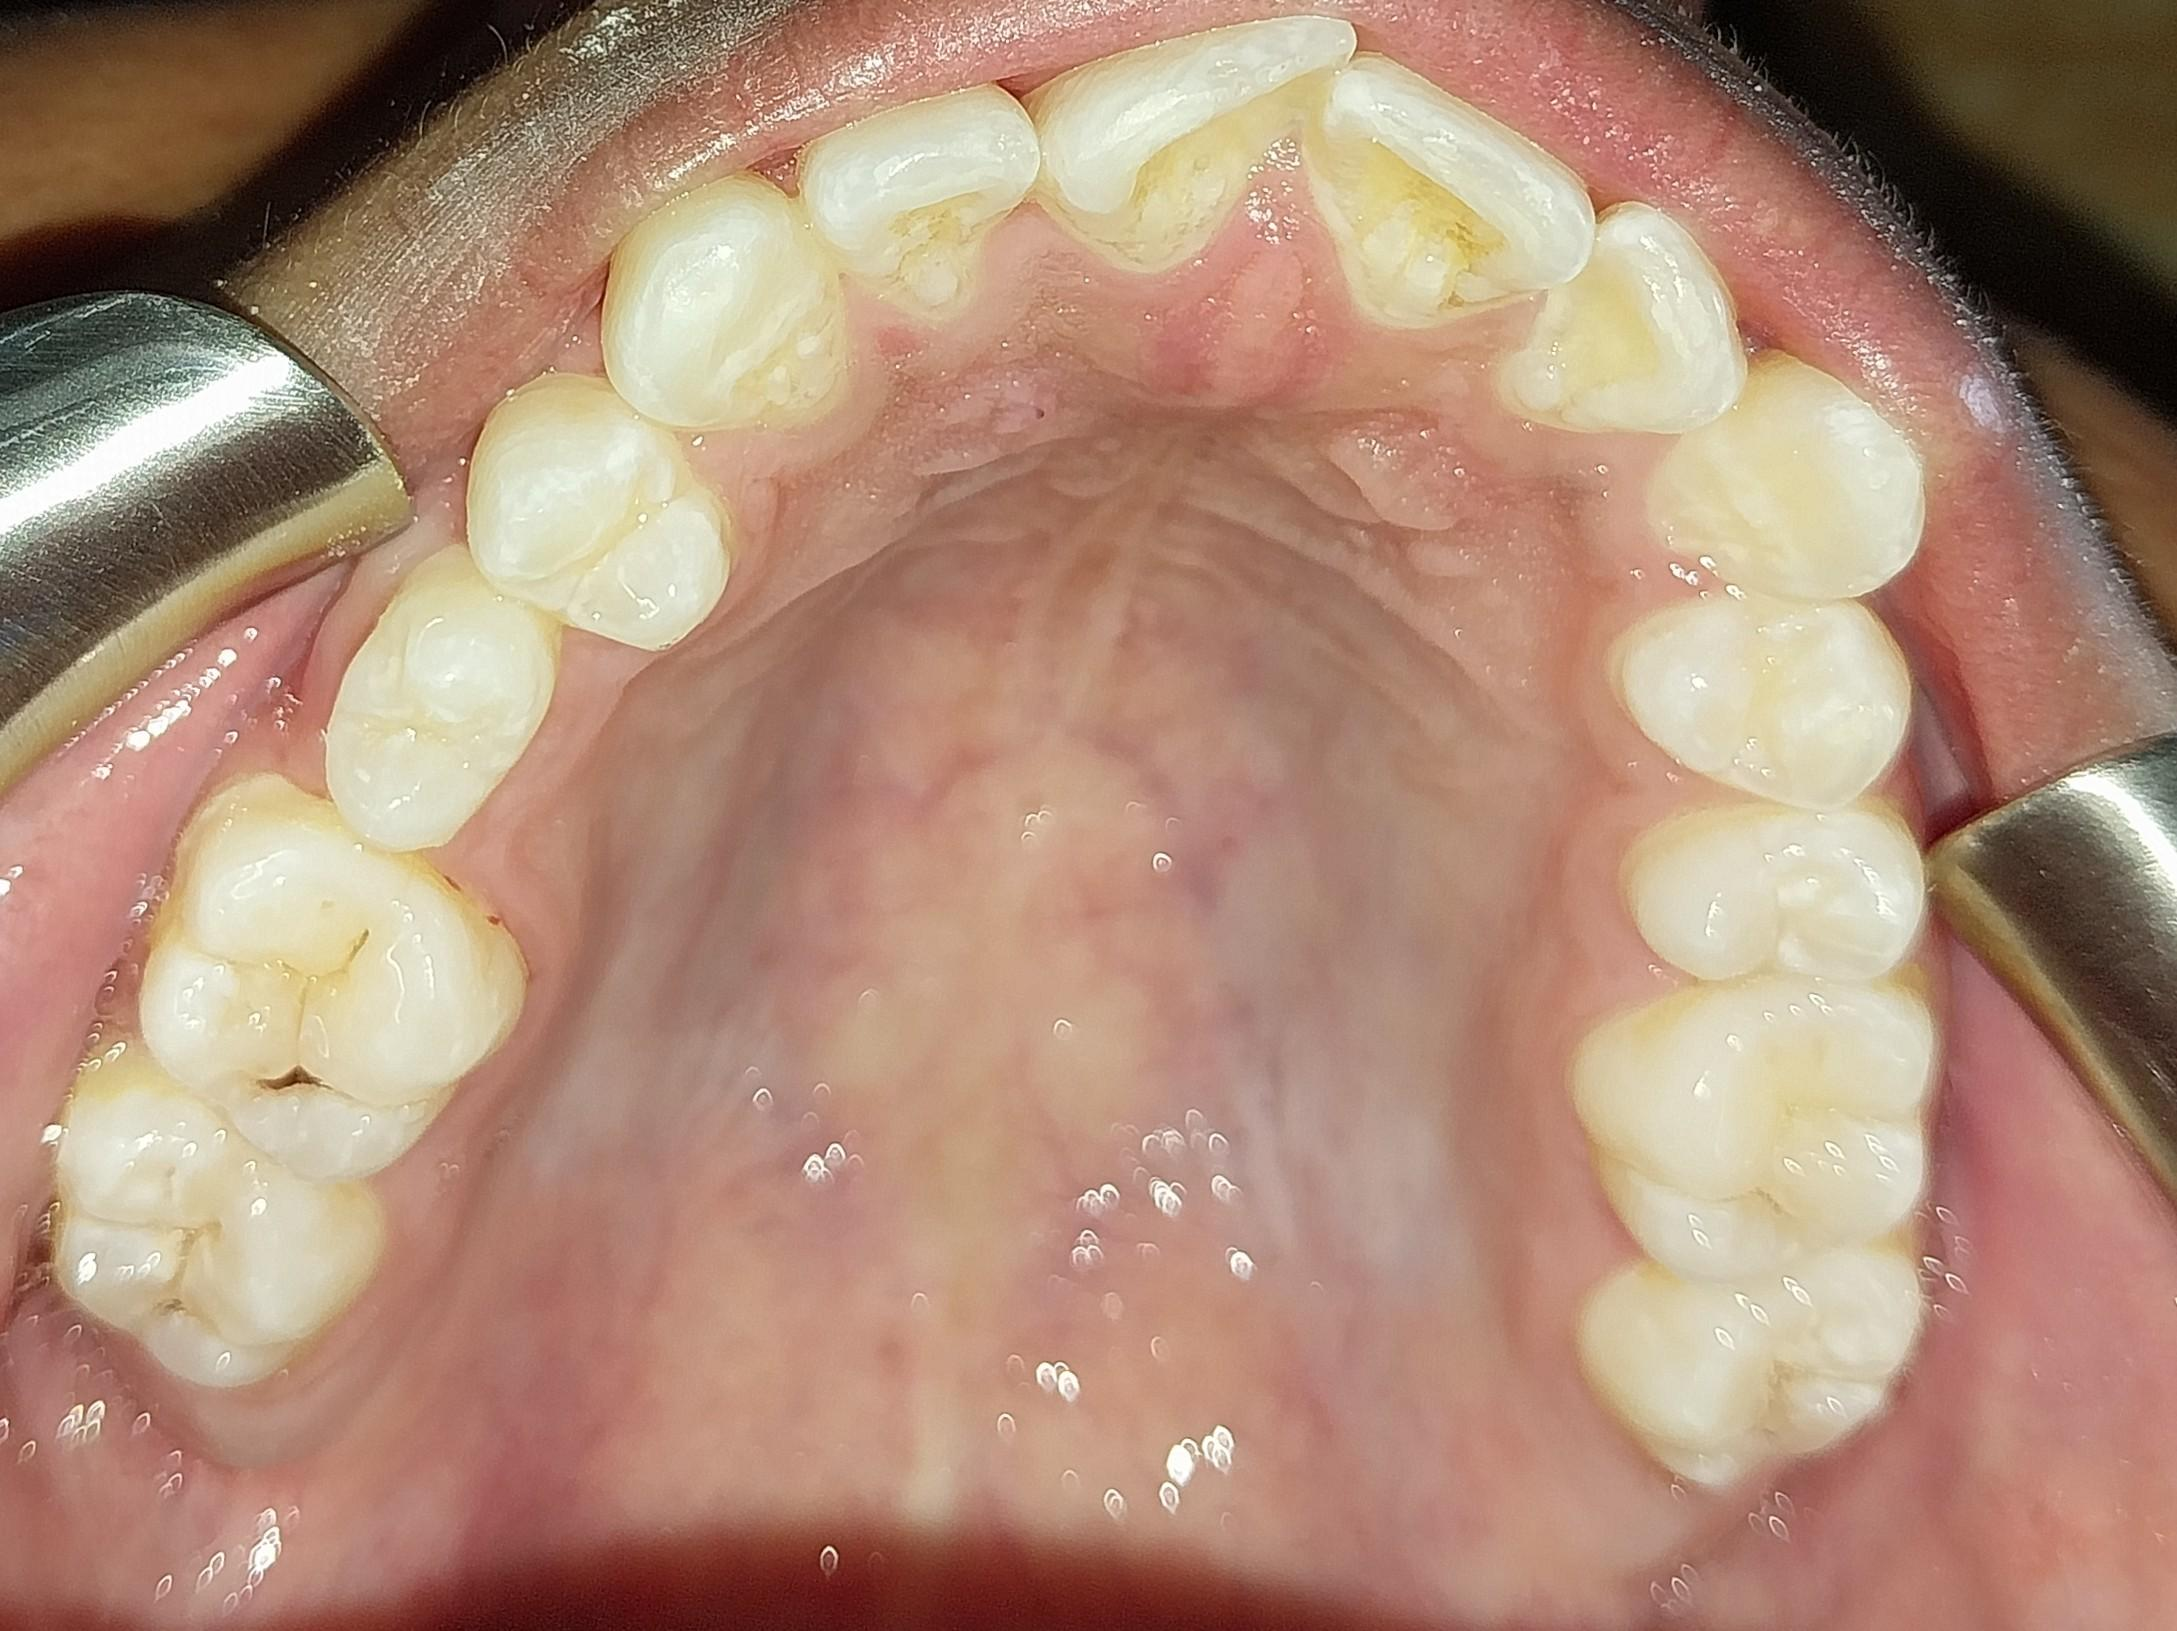D: (151, 802, 518, 1187)
